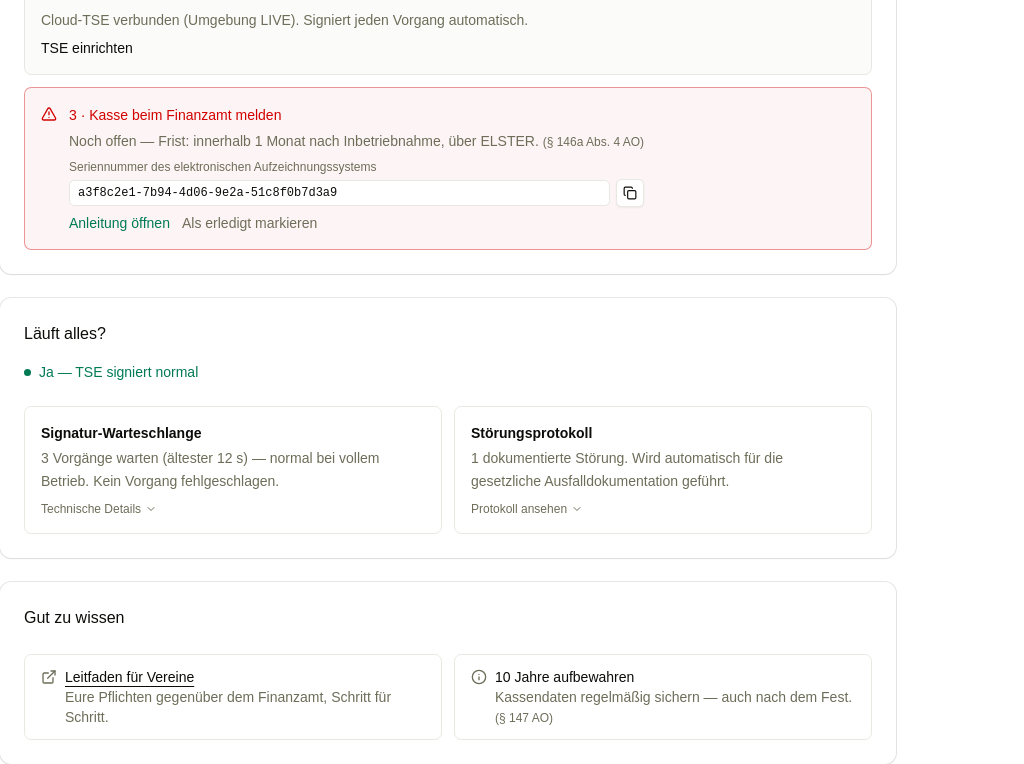
FinanzamtPage — Collapsibles › bietet das Störungsprotokoll aufklappbar an, wenn Störungen vorliegen
The image size is (1024, 764).
(page scrolled)
Expected: the text "1 dokumentierte Störung" is shown, x1=471 y1=450 x2=783 y2=489
Expected: the text "Nachsigniert nach kurzem Rückstand" is not shown
Click the button "Protokoll ansehen". click: (527, 508)
box: x1=471 y1=500 x2=583 y2=516
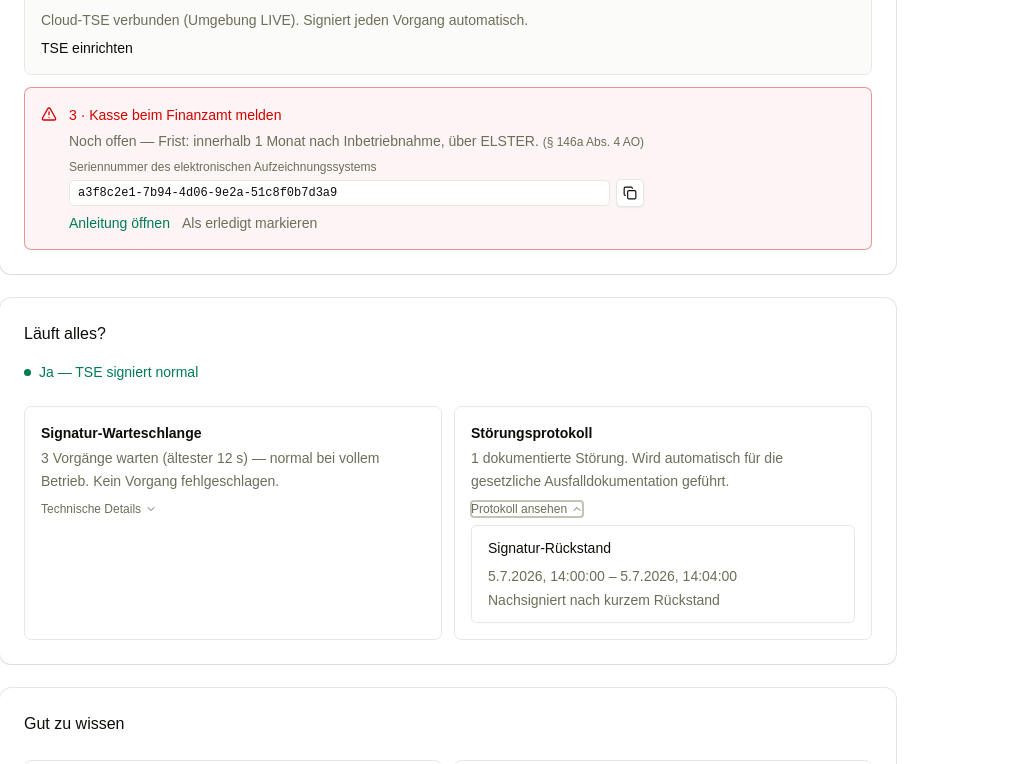
Expected: the text "Nachsigniert nach kurzem Rückstand" is shown, x1=488 y1=592 x2=720 y2=608
